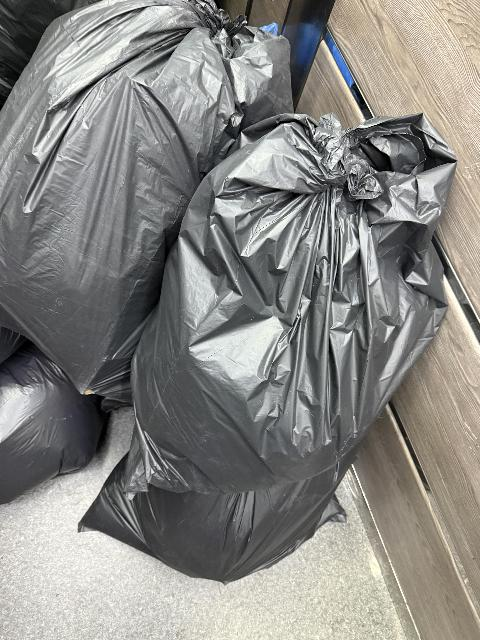Plastik: (143, 119, 452, 492), (0, 7, 276, 371), (91, 464, 324, 569), (0, 346, 92, 491)
